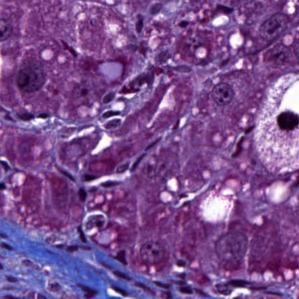ballooning: (251, 68, 297, 178)
